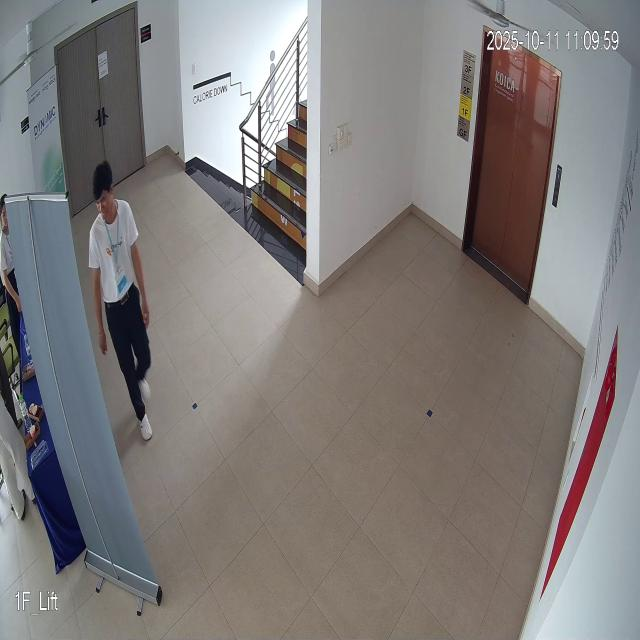face: (90, 156, 121, 223)
